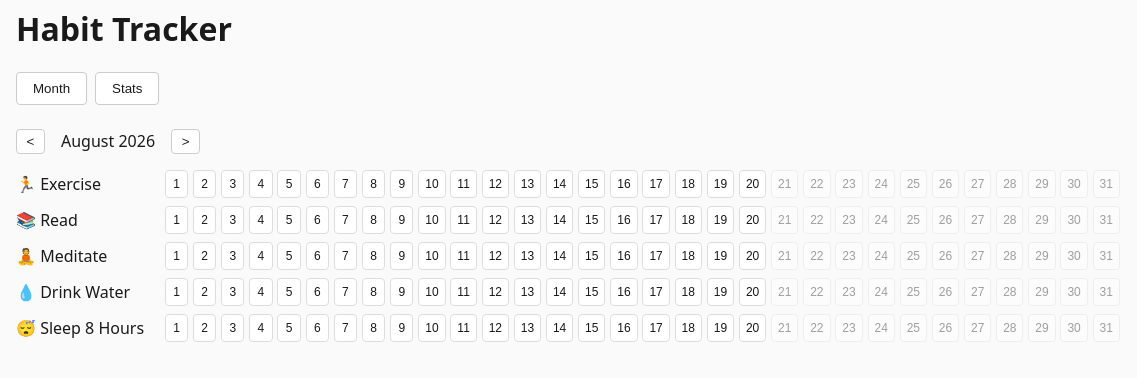
Test: App › switches to the Stats view when the Stats tab is clicked
What coordinates should you click on to do the following:
click the button "Stats"
I would click on:
 (127, 88)
Its box is [95,72,159,105].
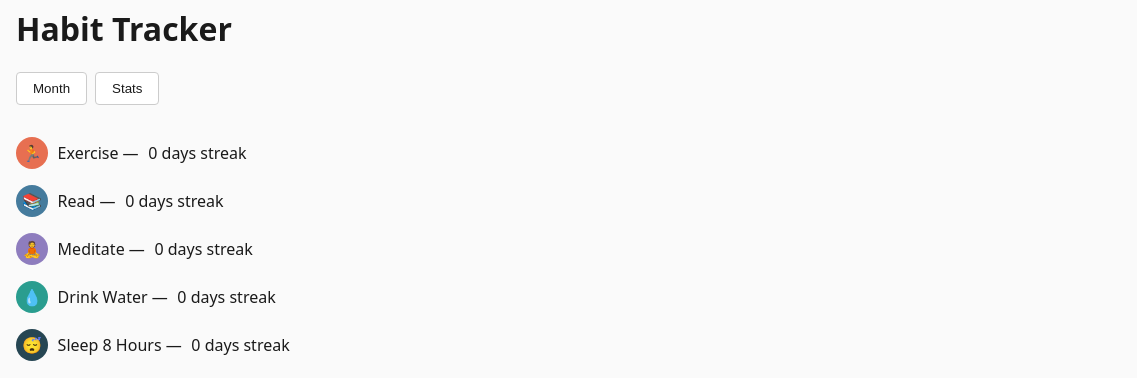
Result: the text with test id "streak-exercise" is shown at [148,142,247,164]
